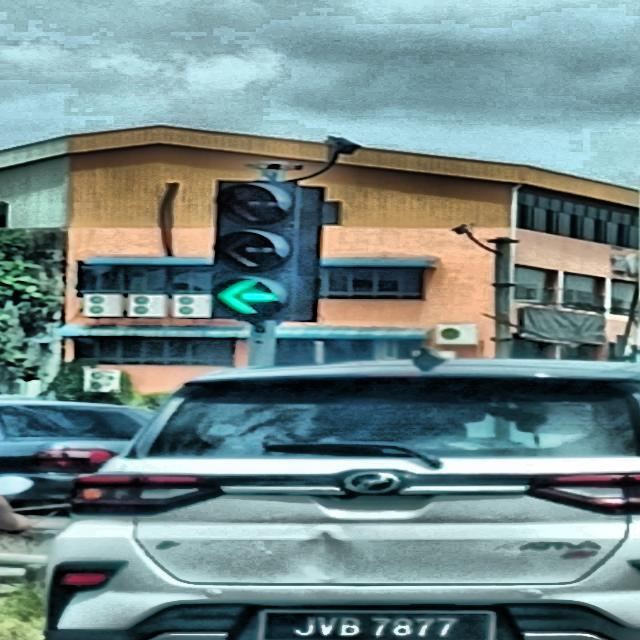green: (209, 180, 299, 320)
